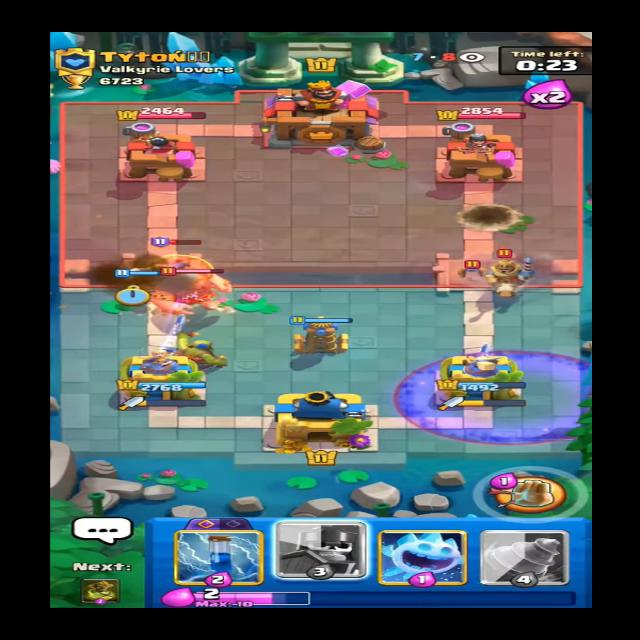Bat: (458, 253, 490, 276)
Evowizard: (144, 237, 218, 273)
Giant: (141, 269, 242, 316)
Graveyard: (394, 351, 602, 444)
Prince: (477, 248, 539, 302)
